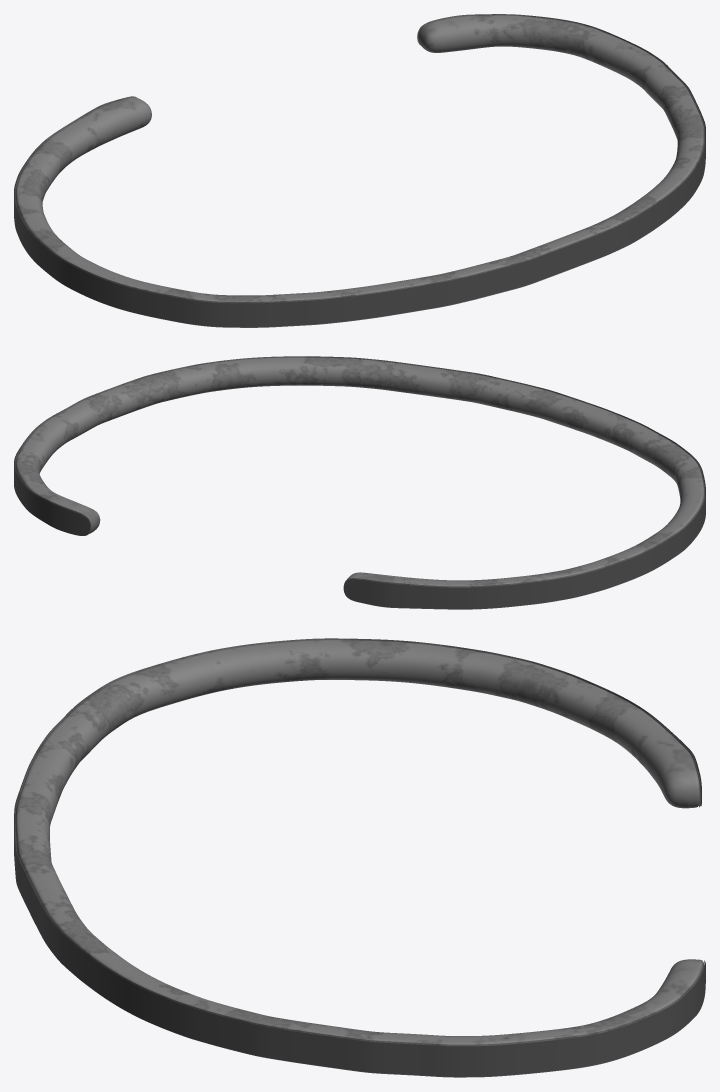
File: bangle-black.glb
3 views of the same model, one above another, from view 1: azimuth 30°, elevation 25°; view 2: azimuth 150°, elevation 25°; view 3: azimuth 270°, elevation 25° (orthographic). The views are drawn at different scales.
Parts seen in each view (by area): view 1: bangle1, omote1; view 2: bangle1, omote1; view 3: bangle1, omote1.
Boxes of the visible parts, box(x1,y1,x2,y2) form: bangle1: box(15, 14, 704, 327); omote1: box(14, 59, 705, 327); bangle1: box(15, 356, 704, 609); omote1: box(14, 424, 705, 609); bangle1: box(15, 638, 704, 1077); omote1: box(14, 709, 705, 1076).
Size of the model in its own units: 2.82 by 0.1165 by 2.03.
2 materials, 2 textured.
